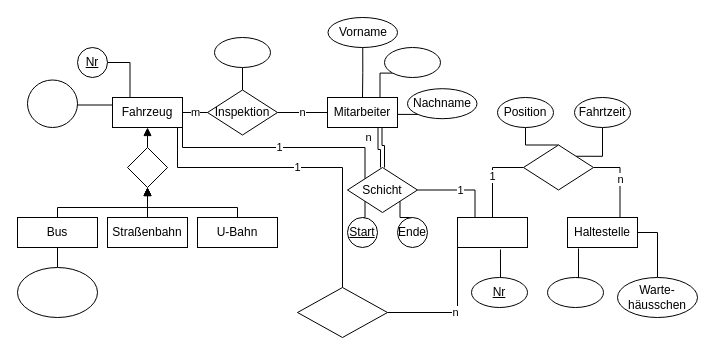
The diagram is 715 pixels wide and 355 high, and some of its shapes have lost their labels. Each missing label, with the centre of its shape:
beinhaltet: (x=558, y=167)
Datum: (x=242, y=52)
ist: (x=147, y=167)
Linie: (x=492, y=232)
max Anzahl: (x=52, y=103)
Name: (x=575, y=292)
PersNr: (x=412, y=62)
Treibstoffart: (x=57, y=292)
wird bedient: (x=342, y=312)
